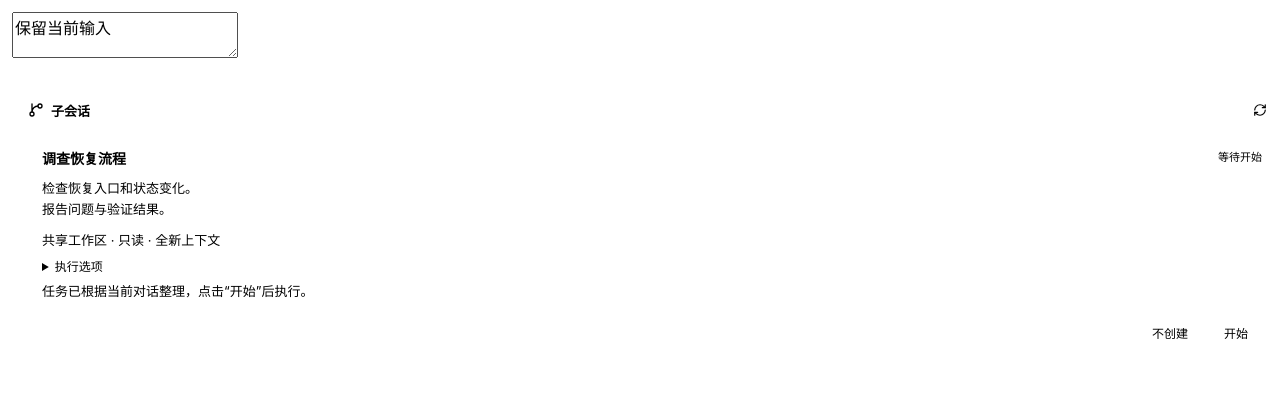
Test: retains the complete proposal and reuses its request key after a lost response
Click the button "开始" at (1236, 332), box x1=1210 y1=314 x2=1262 y2=350
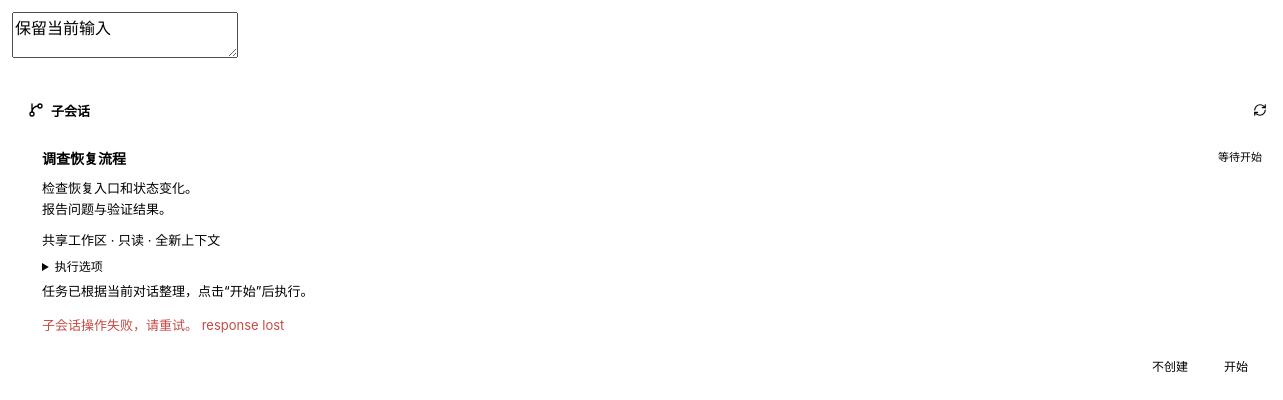
Expected: the heading "调查恢复流程" is shown, x1=42 y1=148 x2=126 y2=168
Result: the message "子会话操作失败，请重试。 response lost" is shown at x1=42 y1=317 x2=284 y2=333
Click the button "开始" at (1236, 365), box x1=1210 y1=347 x2=1262 y2=383
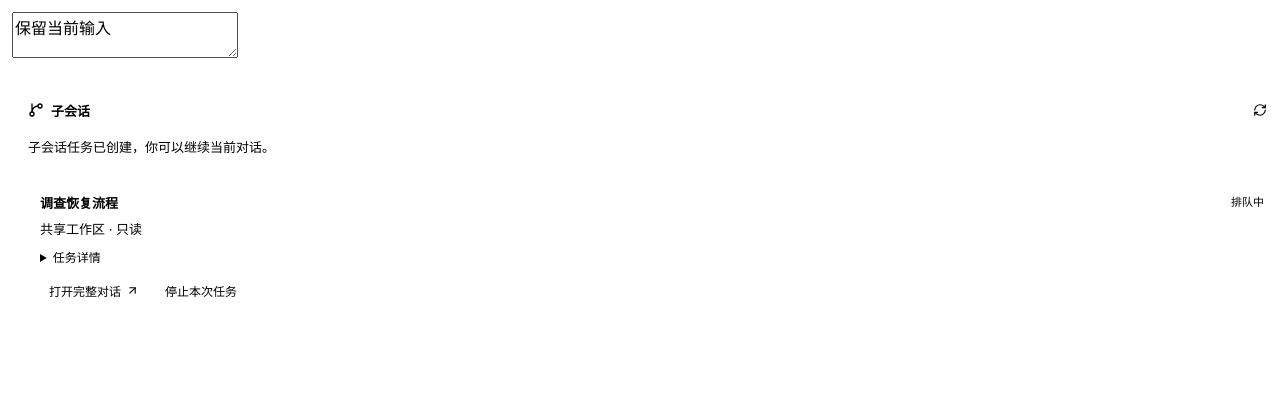
Result: the text "子会话任务已创建，你可以继续当前对话。" is shown at x1=28 y1=139 x2=275 y2=155
